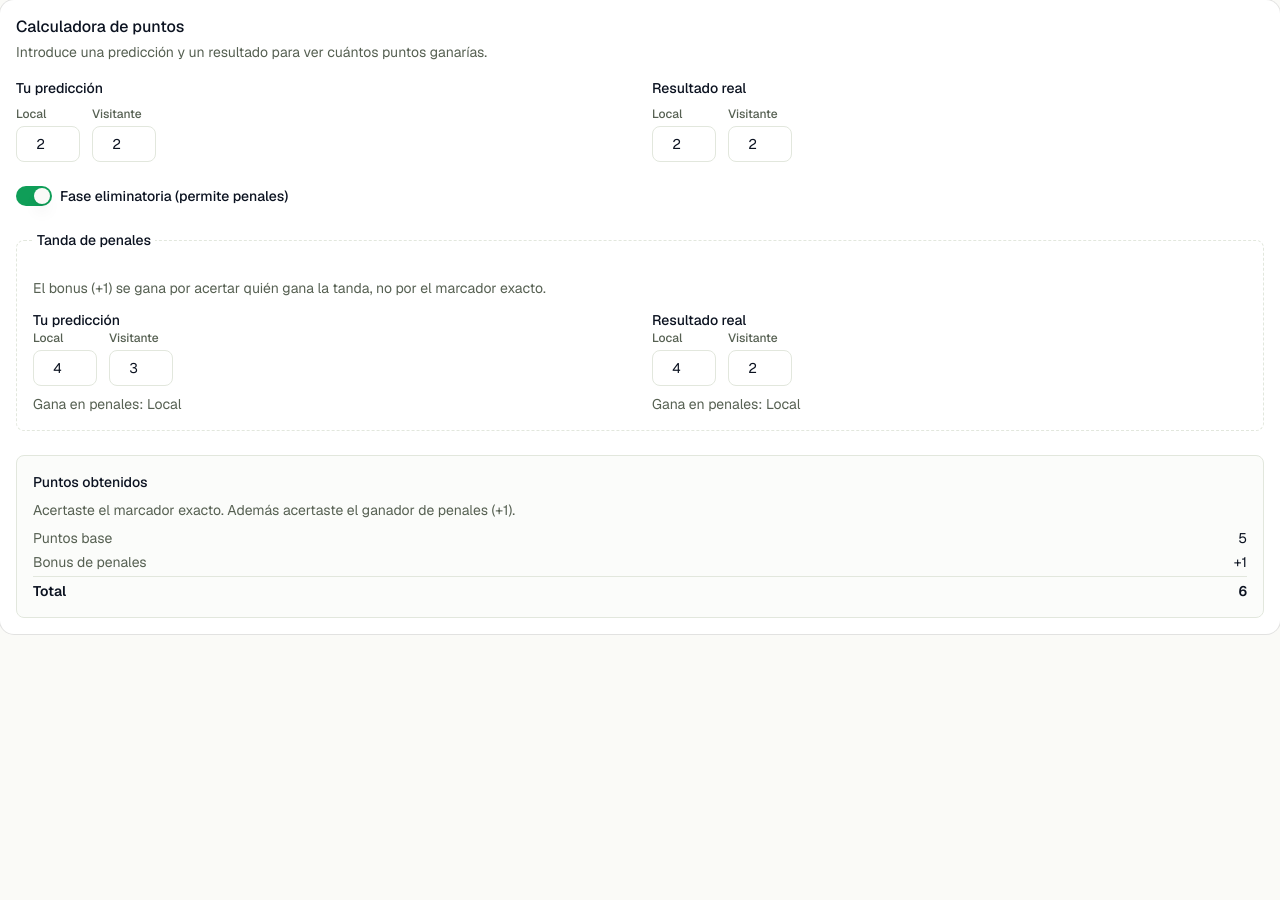
Test case: ScoringCalculator penalties › hides the penalty section when the real match is not tied
Make the real result 3-2 → no penalties.
Replace the text in the number field with test id "calculator-act-home" with "3". click: (684, 144)
box: [652,126,716,162]
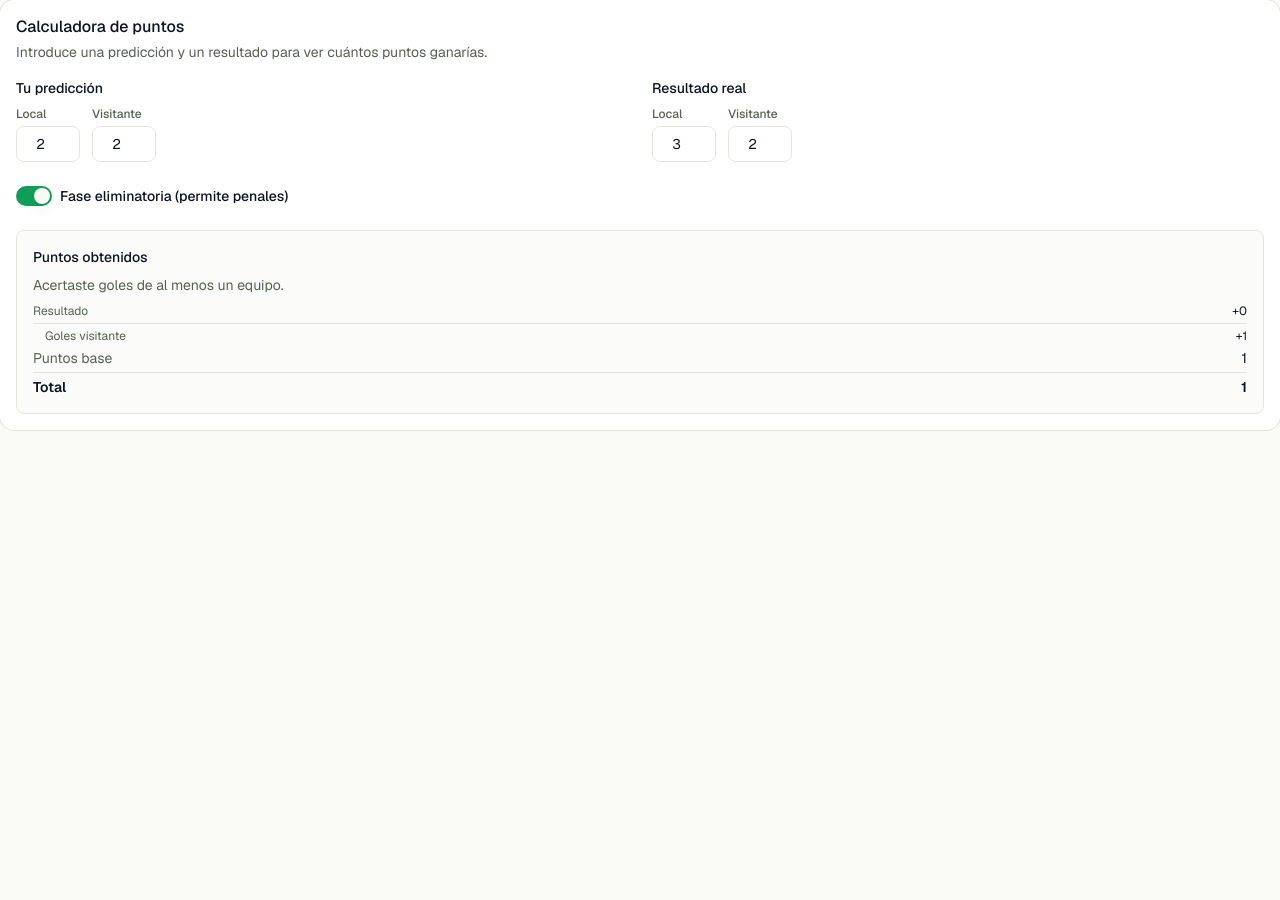
Expected: the text with test id "calculator-predicted-penalty-winner" is gone
Expected: the text with test id "calculator-actual-penalty-winner" is gone
